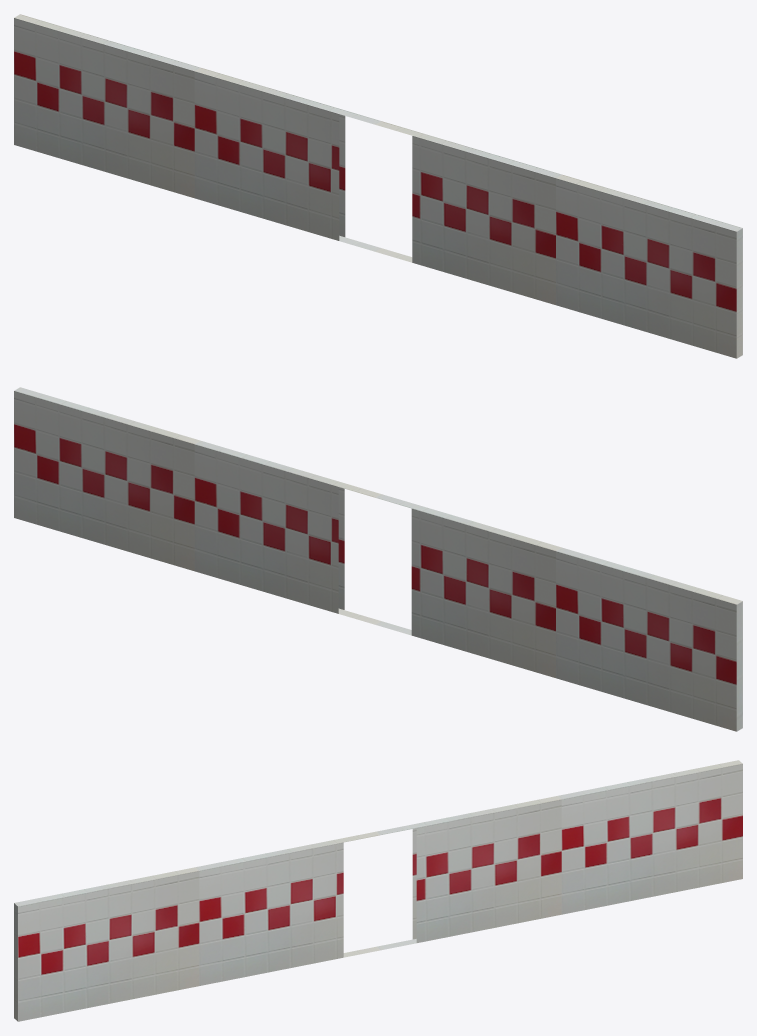
File: WhaleCumwall.fbx
3 renders of one model, top to bottom at view 1: azimuth 30°, elevation 25°; view 2: azimuth 210°, elevation 25°; view 3: azimuth 270°, elevation 25°, orthographic. The views are drawn at different scales.
Parts seen in each view (by area): view 1: Cube.272; view 2: Cube.272; view 3: Cube.272.
Boxes of the visible parts, <box> form: Cube.272: <box>14,14,742,358</box>; Cube.272: <box>14,387,742,731</box>; Cube.272: <box>14,760,742,1021</box>.
Size of the model in its own units: 907 by 332 by 1907.
1 material, 1 textured.
